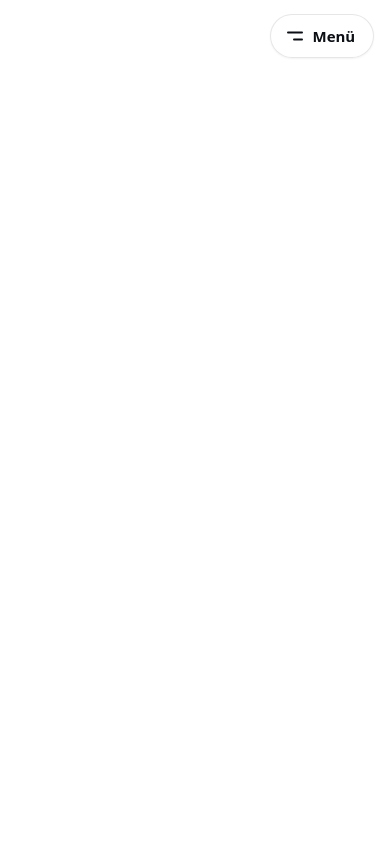
Mobilnavigation — Aufbau › führt per Drill-down von den Leistungen zu den Nischen und wieder zurück
Click the button with aria-label "Navigation öffnen" at point(322, 36), box [270,14,374,58]
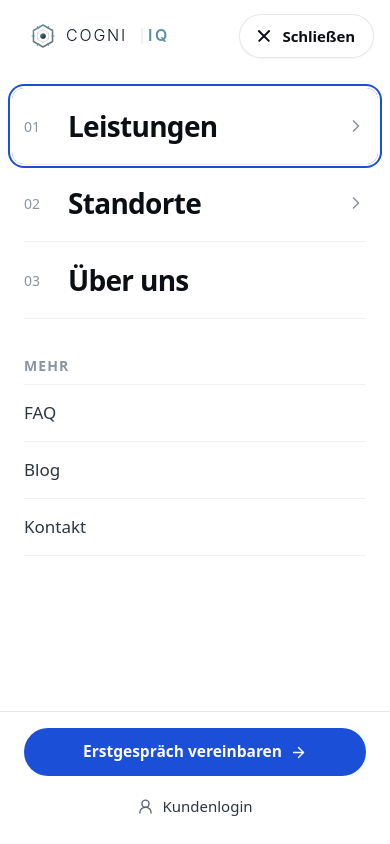
Click the button "01 Leistungen" at point(195, 126), box [12,88,378,164]
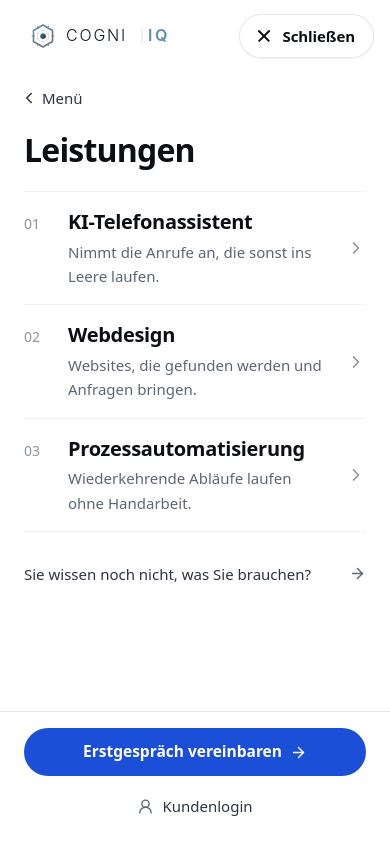
Expected: the heading "Leistungen" is shown, [24,128,195,171]
Expected: the button "KI-Telefonassistent" is shown, [12,192,378,304]
Expected: the button "Webdesign" is shown
Click the button "Webdesign" at point(195, 362), box [12,305,378,418]
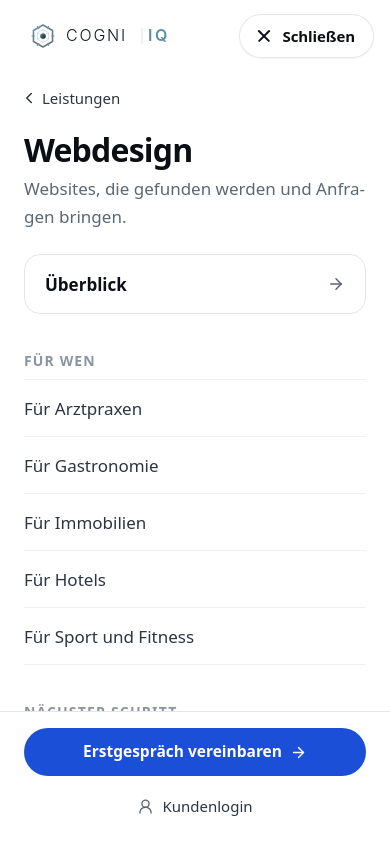
Expected: the heading "Webdesign" is shown, [24,128,192,171]
Click the button with aria-label "Zurück zu Leistungen" at point(74, 98), box [16,76,132,120]
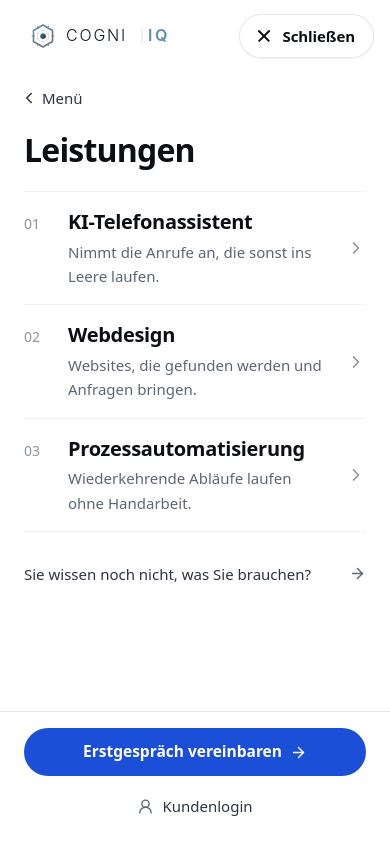
Expected: the heading "Leistungen" is shown, [24,128,195,171]
